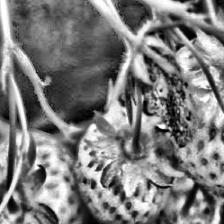Gray Mold: (105, 17, 198, 149)
